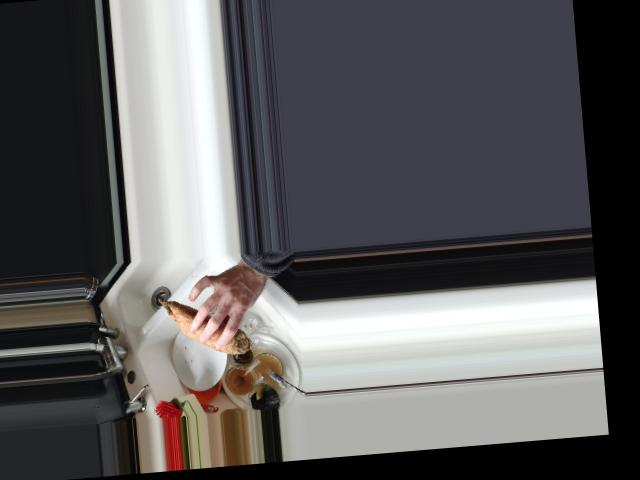sweet_potato: (157, 290, 250, 361)
